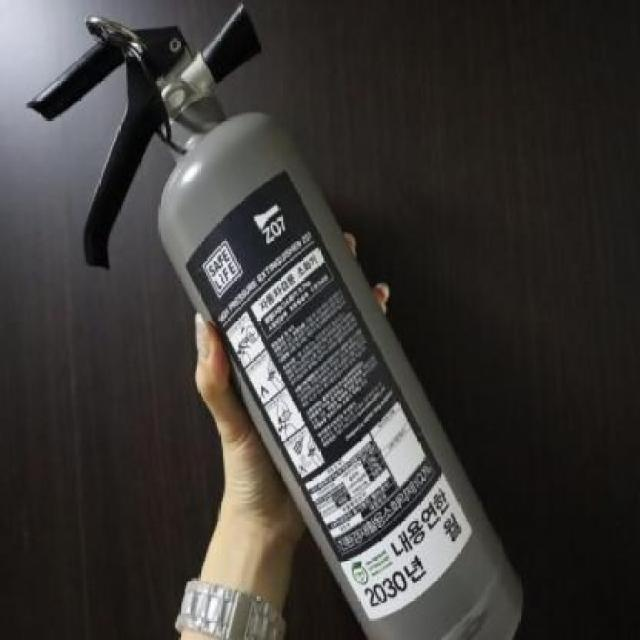fire extinguisher: (26, 1, 524, 640)
